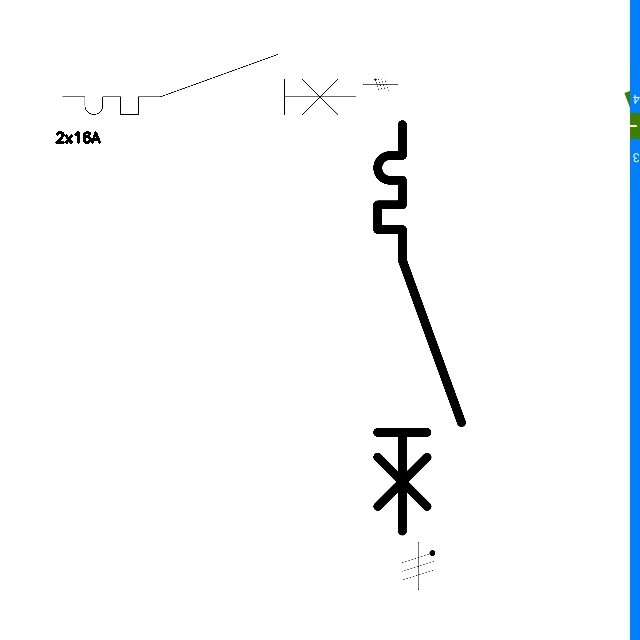interruptor_termomagnetico: (367, 114, 471, 542), (55, 47, 363, 122)
